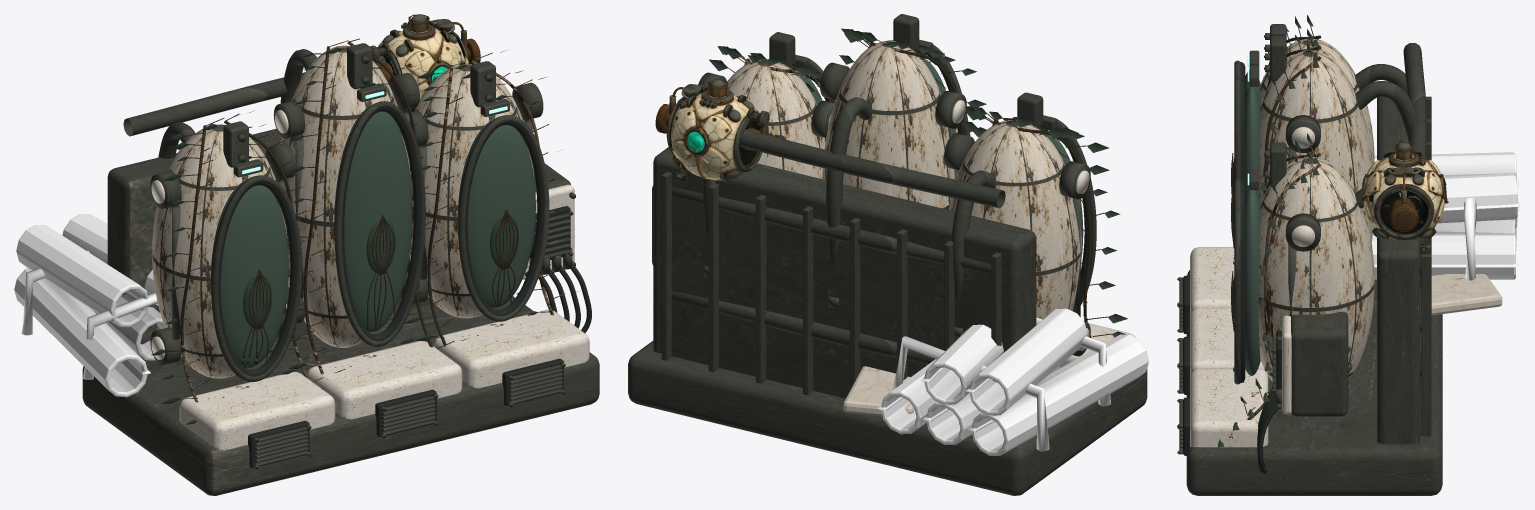
Rendered from secret-nursery-v2.glb.
3 views of the same model, side by side, from view 1: azimuth 30°, elevation 25°; view 2: azimuth 150°, elevation 25°; view 3: azimuth 270°, elevation 25° (orthographic). The views are drawn at different scales.
Parts seen in each view (by area): view 1: nursery-bioso-shared-steel, nursery-bioso-shared-ceramic-worn, nursery-window, nursery-bioso-shared-ceramic, reused-environment-scrap-pipes-v1.001, nursery-rubber, nursery-bioso-shared-root, reused-organ-reactor, nursery-bioso-shared-membrane, nursery-bioso-shared-leaf; view 2: nursery-bioso-shared-steel, nursery-bioso-shared-ceramic-worn, reused-environment-scrap-pipes-v1.001, reused-organ-reactor, nursery-bioso-shared-leaf, nursery-bioso-shared-root, reused-environment-scrap-pipes-v1, nursery-rubber, nursery-bioso-shared-ceramic, nursery-window; view 3: nursery-bioso-shared-steel, nursery-bioso-shared-ceramic-worn, nursery-bioso-shared-ceramic, reused-environment-scrap-pipes-v1.001, reused-organ-reactor, nursery-window, nursery-rubber, reused-environment-scrap-pipes-v1, nursery-bioso-shared-root, nursery-bioso-shared-leaf.
Part boxes in pixels (box(x1,y1,x2,y2)): nursery-bioso-shared-steel: box(82, 43, 599, 495); nursery-bioso-shared-ceramic-worn: box(152, 45, 534, 378); nursery-window: box(210, 108, 535, 368); nursery-bioso-shared-ceramic: box(151, 110, 589, 450); reused-environment-scrap-pipes-v1.001: box(14, 214, 165, 397); nursery-rubber: box(211, 60, 591, 468); nursery-bioso-shared-root: box(167, 38, 567, 402); reused-organ-reactor: box(370, 14, 480, 111); nursery-bioso-shared-membrane: box(243, 213, 518, 327); nursery-bioso-shared-leaf: box(151, 43, 577, 424); nursery-bioso-shared-steel: box(628, 14, 1147, 495); nursery-bioso-shared-ceramic-worn: box(725, 40, 1081, 319); reused-environment-scrap-pipes-v1.001: box(877, 308, 1148, 455); reused-organ-reactor: box(655, 79, 784, 182); nursery-bioso-shared-leaf: box(709, 28, 1127, 337); nursery-bioso-shared-root: box(728, 38, 1111, 338); reused-environment-scrap-pipes-v1: box(843, 366, 914, 416); nursery-rubber: box(809, 50, 1093, 299); nursery-bioso-shared-ceramic: box(828, 100, 1135, 368); nursery-window: box(798, 59, 1083, 256); nursery-bioso-shared-steel: box(1178, 24, 1442, 495); nursery-bioso-shared-ceramic-worn: box(1258, 38, 1374, 382); nursery-bioso-shared-ceramic: box(1190, 127, 1314, 447); reused-environment-scrap-pipes-v1.001: box(1371, 152, 1520, 280); reused-organ-reactor: box(1361, 140, 1448, 254); nursery-window: box(1245, 70, 1260, 375); nursery-rubber: box(1177, 35, 1281, 473); reused-environment-scrap-pipes-v1: box(1431, 274, 1502, 315); nursery-bioso-shared-root: box(1231, 26, 1321, 423); nursery-bioso-shared-leaf: box(1218, 15, 1319, 447).
Bounding box in the file's own units: 3.81 × 2.88 × 2.45.
Materials: 12 (8 with a texture image).
